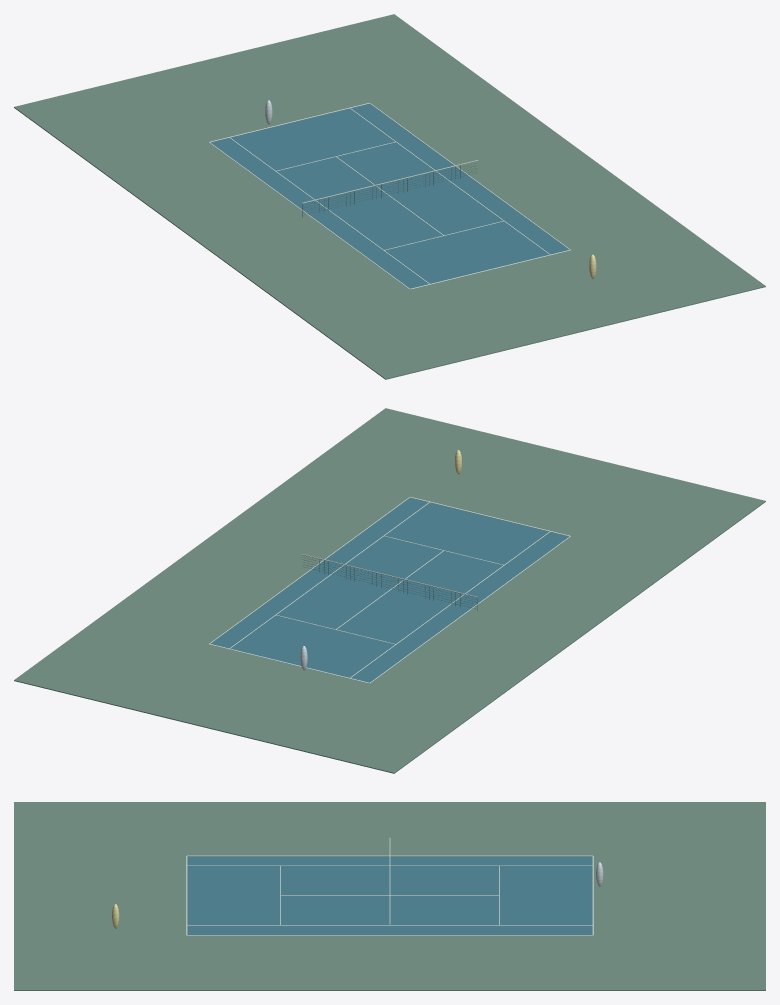
The model's file is quan-gomez-point.glb.
The picture shows the model from 3 angles, top to bottom: view 1: azimuth 30°, elevation 25°; view 2: azimuth 150°, elevation 25°; view 3: azimuth 270°, elevation 25°; orthographic projection.
Visible parts, largest first — view 1: Surround, Playing court; view 2: Surround, Playing court; view 3: Surround, Playing court, Sideline, Sideline.001, Sideline.002, Sideline.003.
Boxes of the visible parts, x1,y1,x2,y2 form: Surround: (14,14,765,379); Playing court: (210,103,569,289); Surround: (14,408,765,773); Playing court: (210,497,569,683); Surround: (14,802,765,990); Playing court: (187,856,592,934); Sideline: (187,855,592,856); Sideline.001: (187,865,592,865); Sideline.002: (187,925,592,925); Sideline.003: (187,935,592,935).
Size of what is drawn, in the model's own units: 26 by 1.68 by 44.
